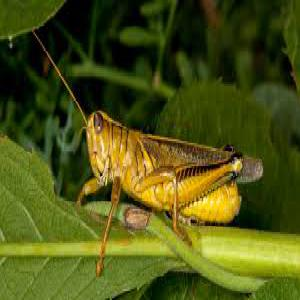locust: (70, 83, 256, 255)
